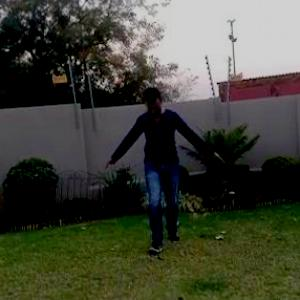land: (87, 76, 218, 272)
